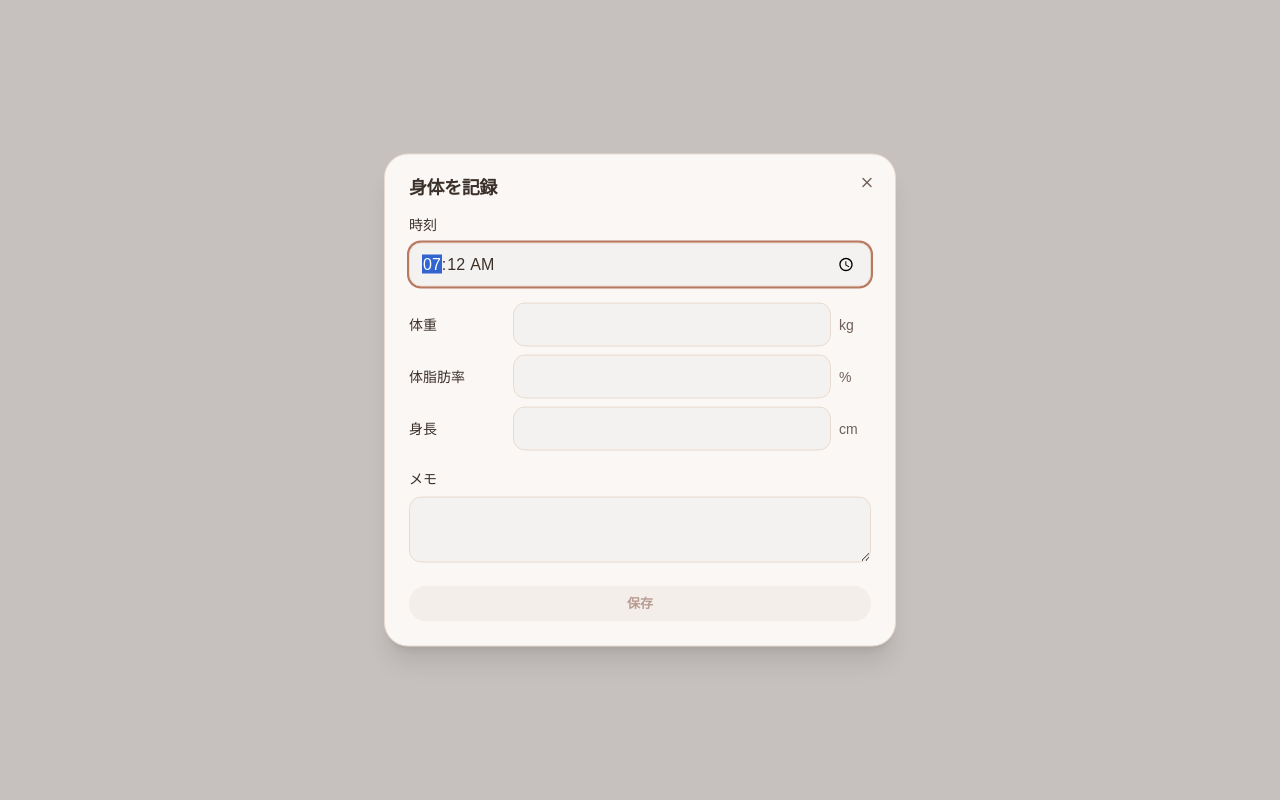
ModuleRecordDialog › disables save while every field is empty or a value is out of range
Check: the button "保存" is disabled, box [409, 586, 871, 622]
In the number field labelled "体重": (672, 324) [513, 302, 831, 346], type "600"
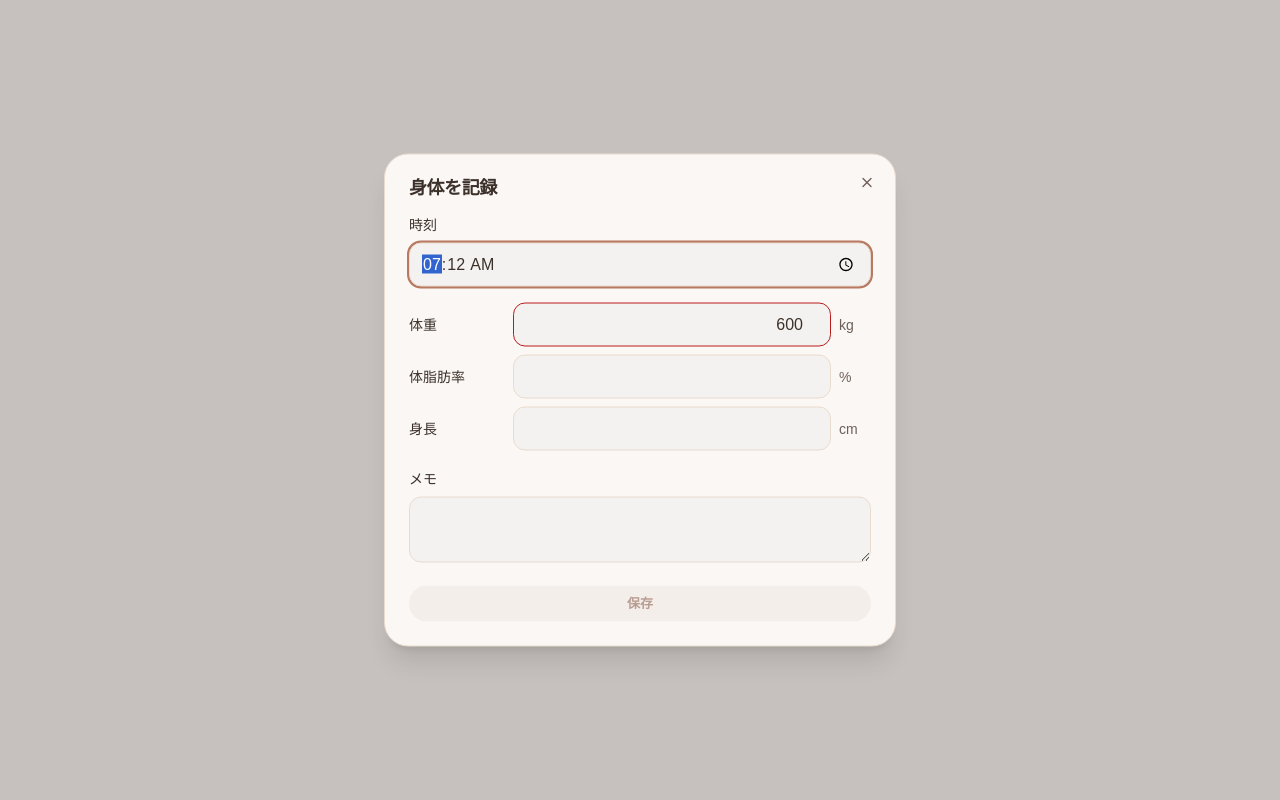
Check: the button "保存" is disabled, box [409, 586, 871, 622]
Replace the text in the number field labelled "体重" with "60.25": (672, 324) [513, 302, 831, 346]
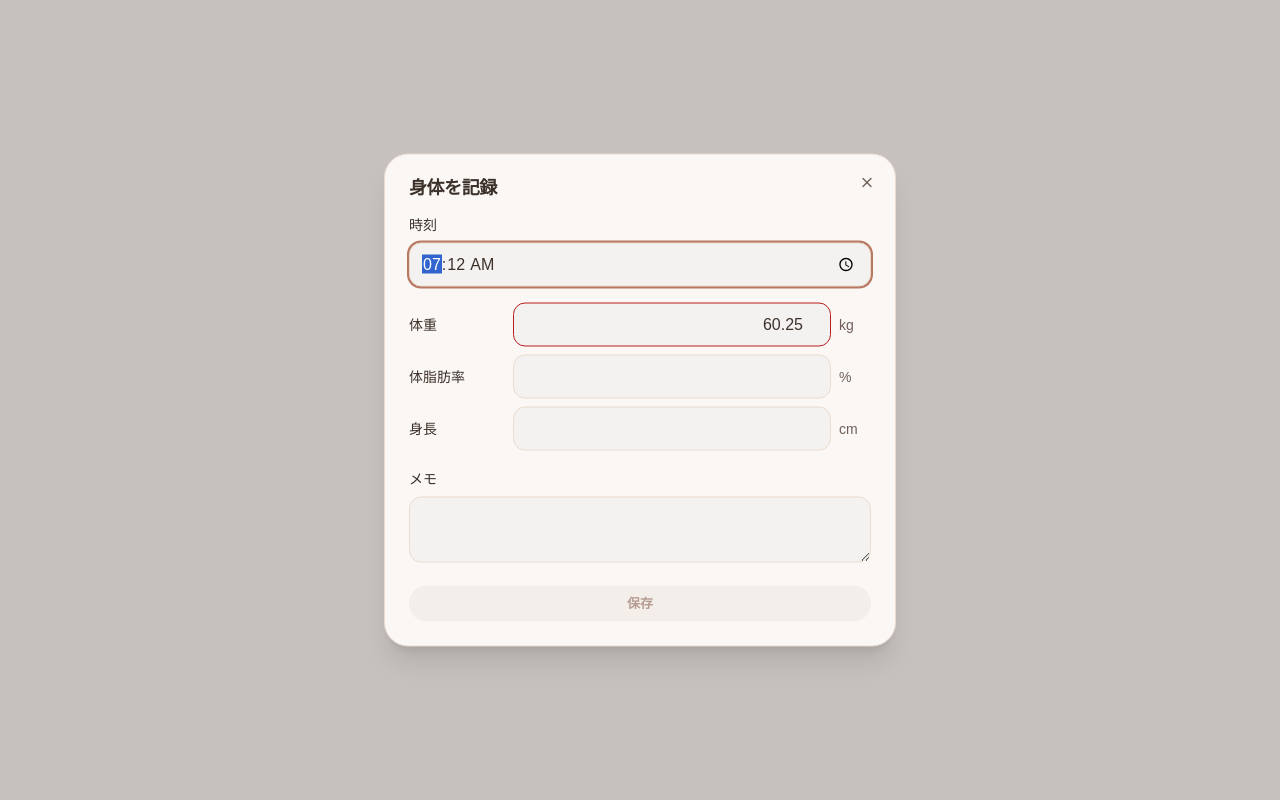
Check: the button "保存" is disabled, box [409, 586, 871, 622]
Replace the text in the number field labelled "体重" with "60.2": (672, 324) [513, 302, 831, 346]
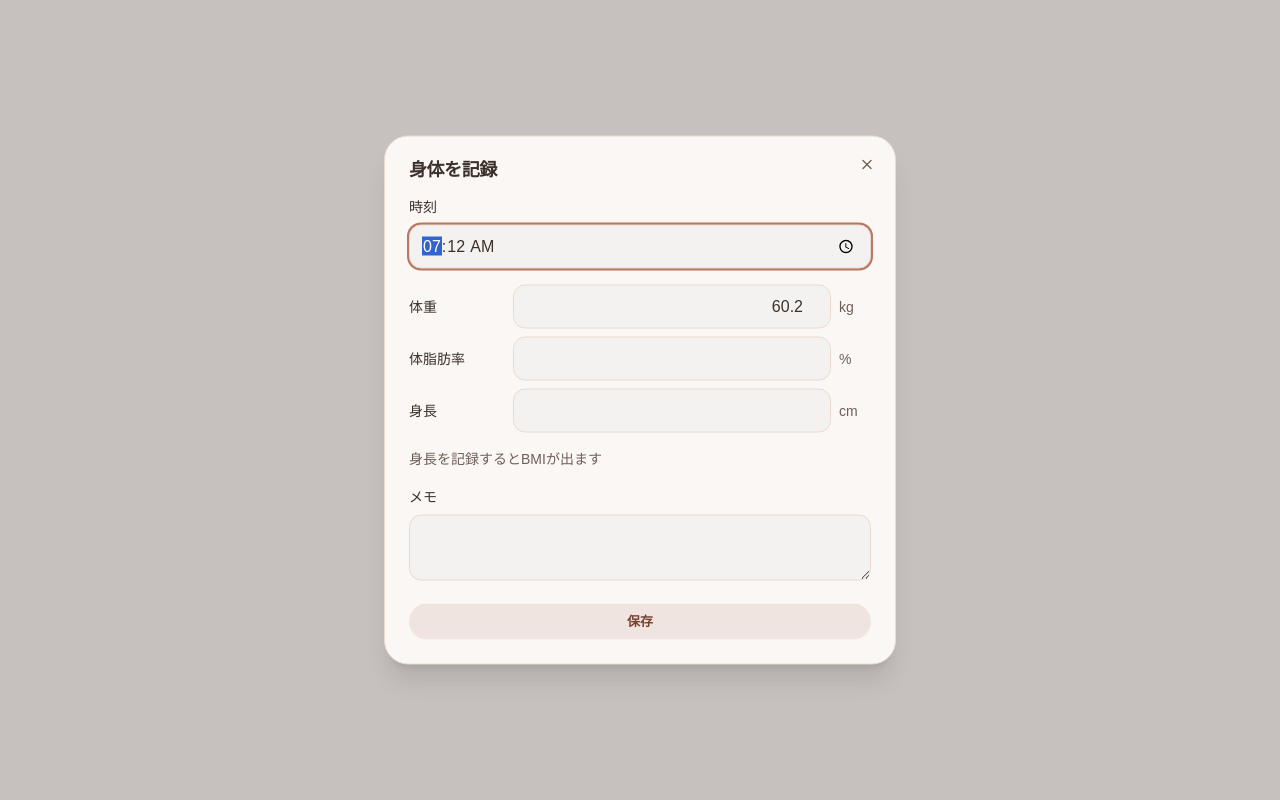
Check: the button "保存" is enabled, box [409, 604, 871, 640]
